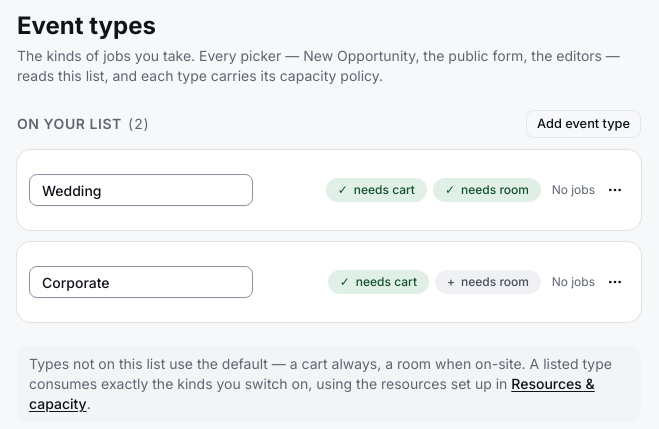
Scenario: EventTypesClient › shows no delete hint when the type is unused
The width and height of the screenshot is (659, 429).
What coordinates should you click on to do the following:
click the button named "Wedding — actions"
I would click on:
 (615, 190)
Its box is [601,176,629,204].
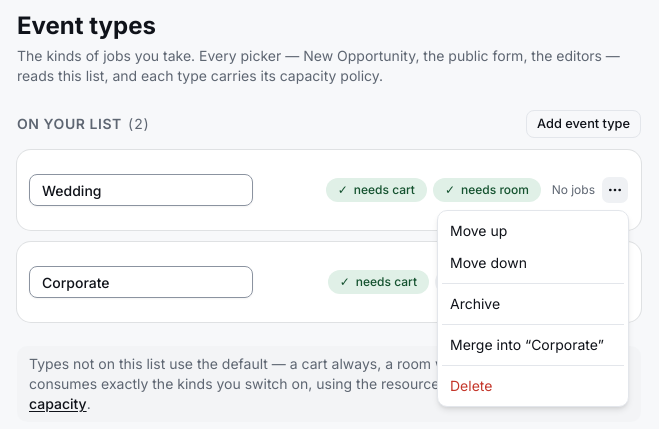
Expected: the menu item "Delete" is shown, [450,377,492,394]
